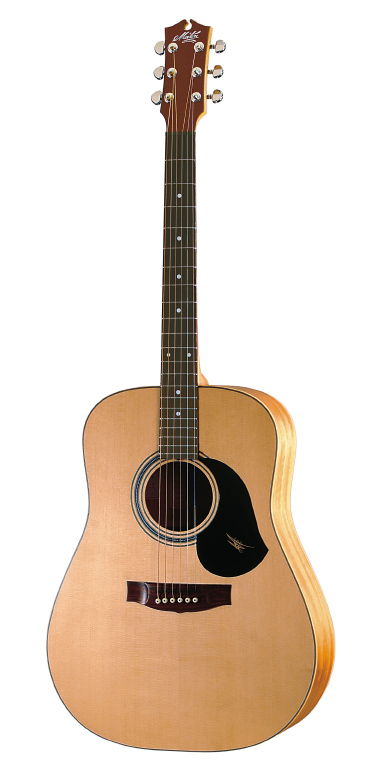guitar: (42, 16, 336, 757)
